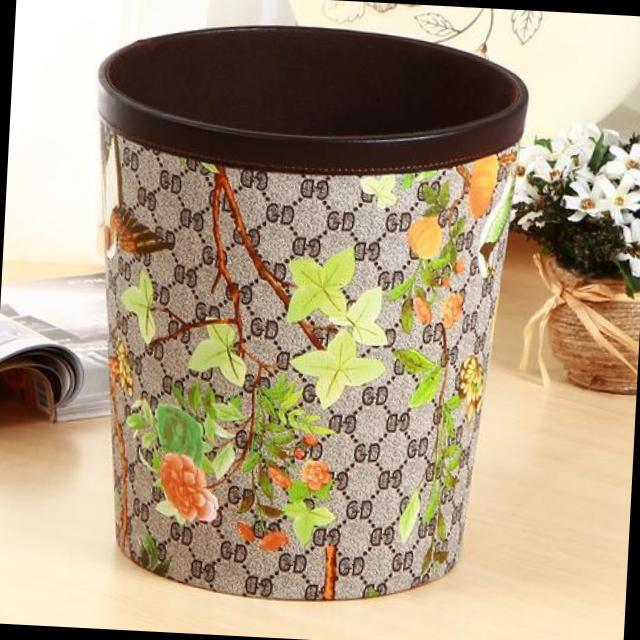dustbin: (64, 10, 538, 612)
